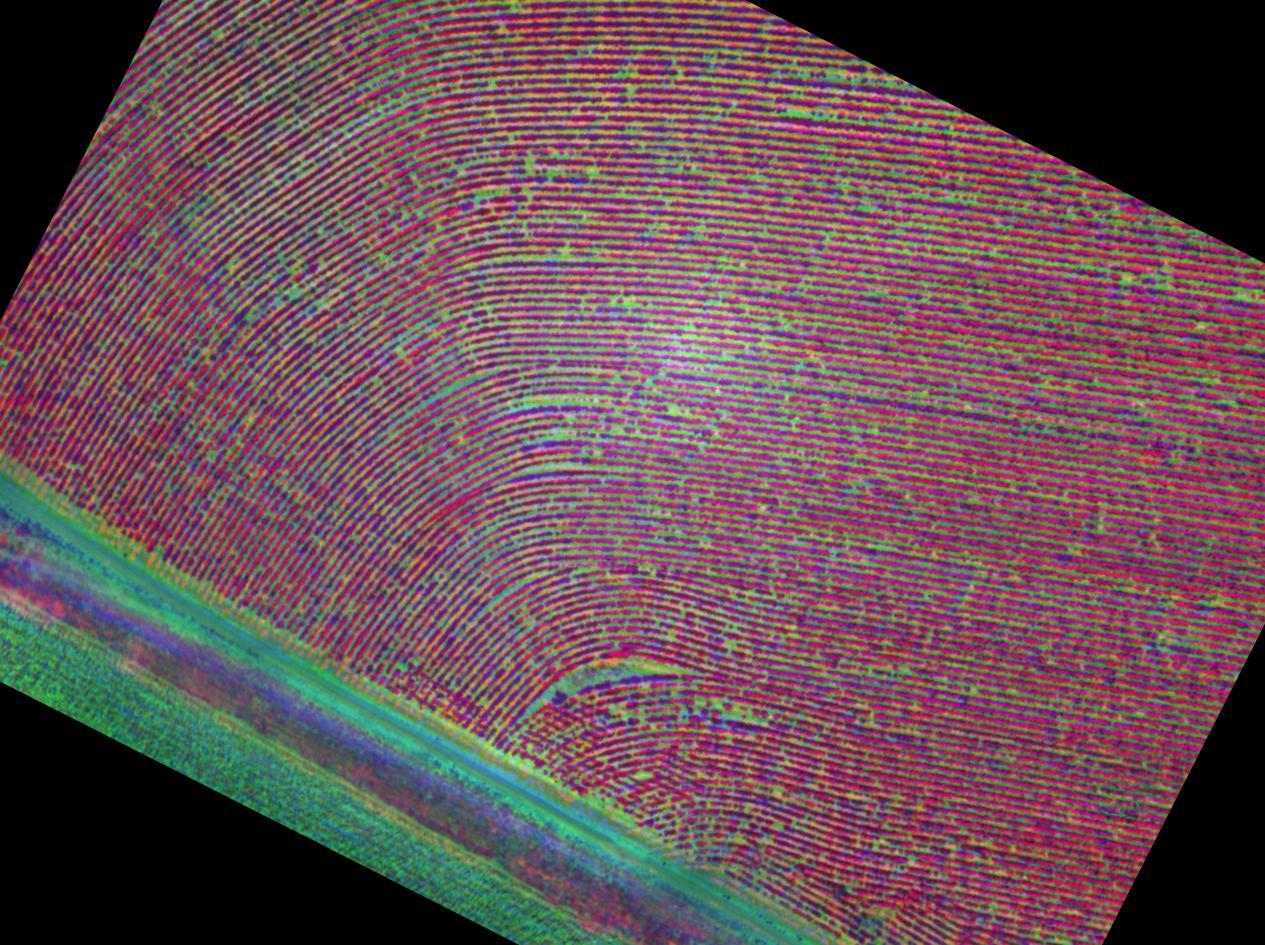dc: (488, 350, 684, 491), (518, 618, 694, 732), (441, 130, 595, 231), (216, 150, 322, 263), (738, 60, 879, 140)
